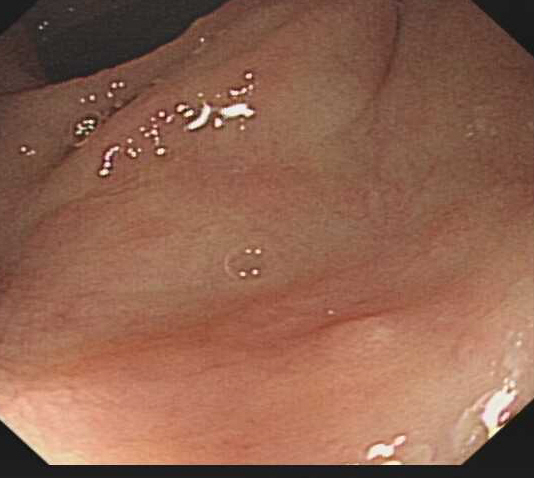others: (310, 309, 392, 363)
